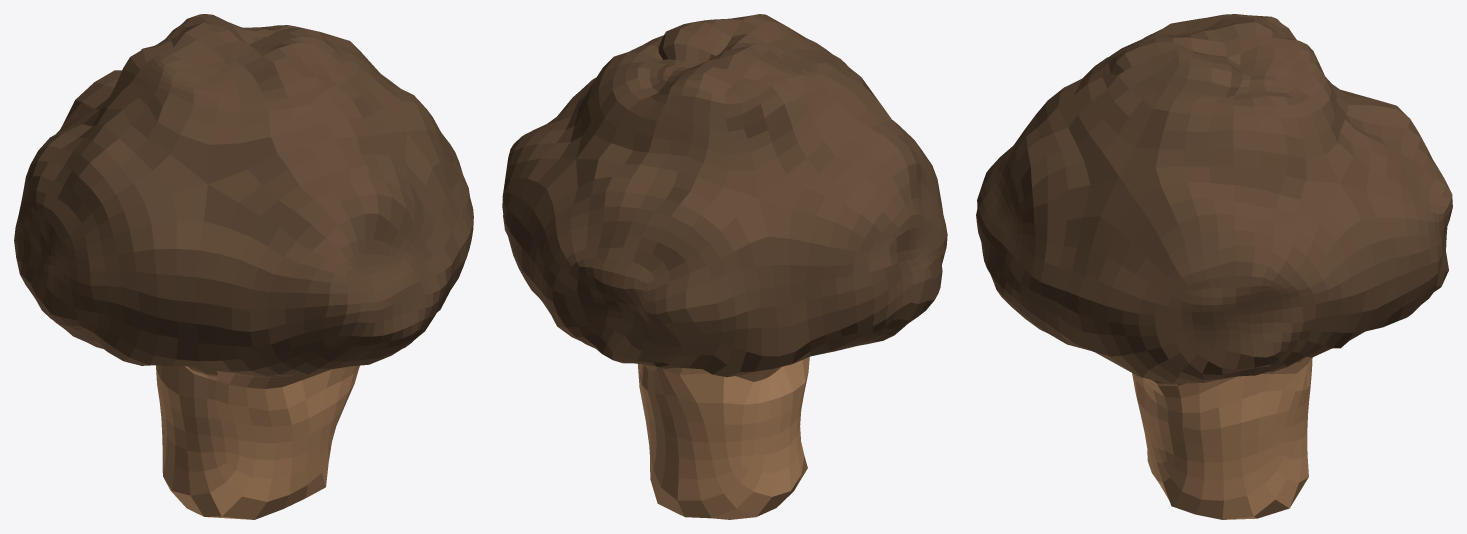
Rendered from mushyfriend.glb.
3 views of the same model, side by side, from view 1: azimuth 30°, elevation 25°; view 2: azimuth 150°, elevation 25°; view 3: azimuth 270°, elevation 25° (orthographic). The views are drawn at different scales.
Visible parts, largest first — view 1: Cube; view 2: Cube; view 3: Cube.
Boxes of the visible parts, x1,y1,x2,y2 form: Cube: [14, 14, 473, 519]; Cube: [502, 14, 947, 519]; Cube: [976, 14, 1452, 519].
Bounding box in the file's own units: 4.82 × 5.38 × 4.93.
1 material, 1 textured.
